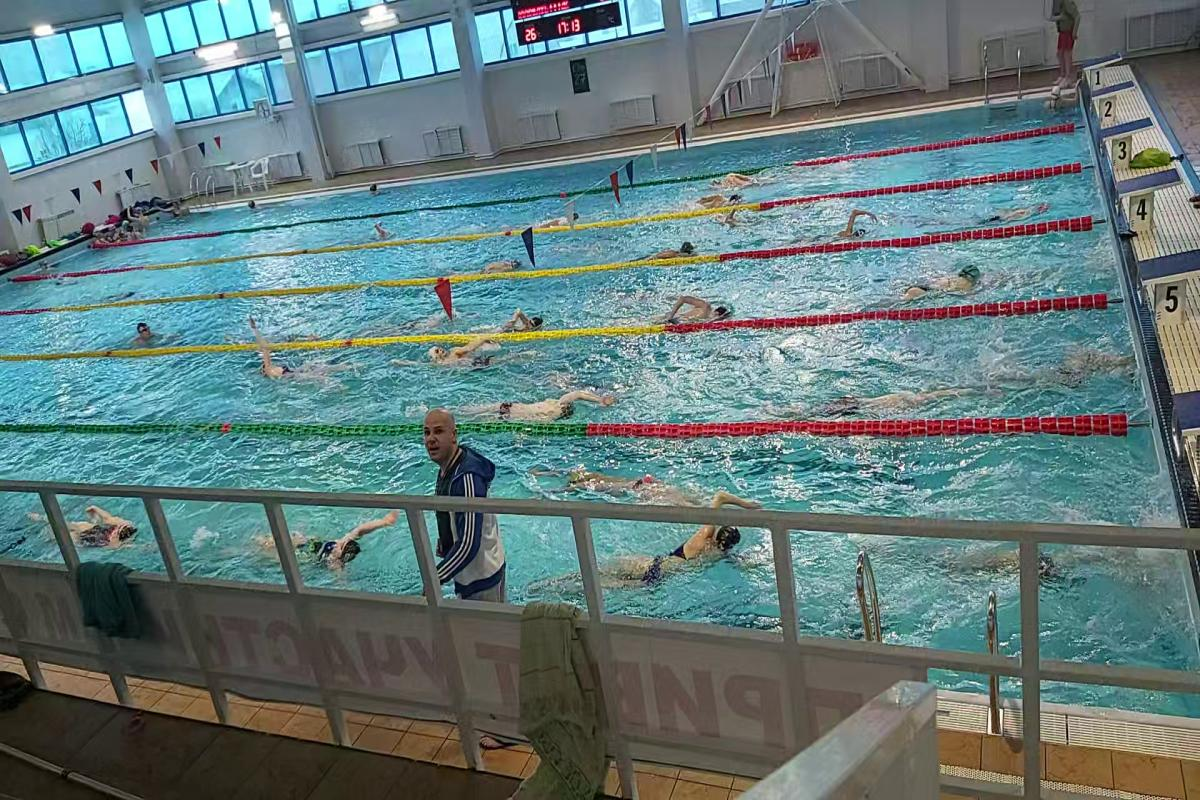swimmer: (571, 540, 748, 598), (251, 511, 401, 571), (449, 383, 640, 430), (410, 342, 540, 389), (545, 456, 677, 498), (946, 538, 1058, 582), (19, 508, 141, 548), (245, 348, 361, 388), (882, 258, 998, 293), (644, 289, 742, 323), (477, 309, 567, 334), (818, 204, 878, 238), (647, 230, 712, 260), (124, 320, 187, 344), (468, 254, 539, 268)
